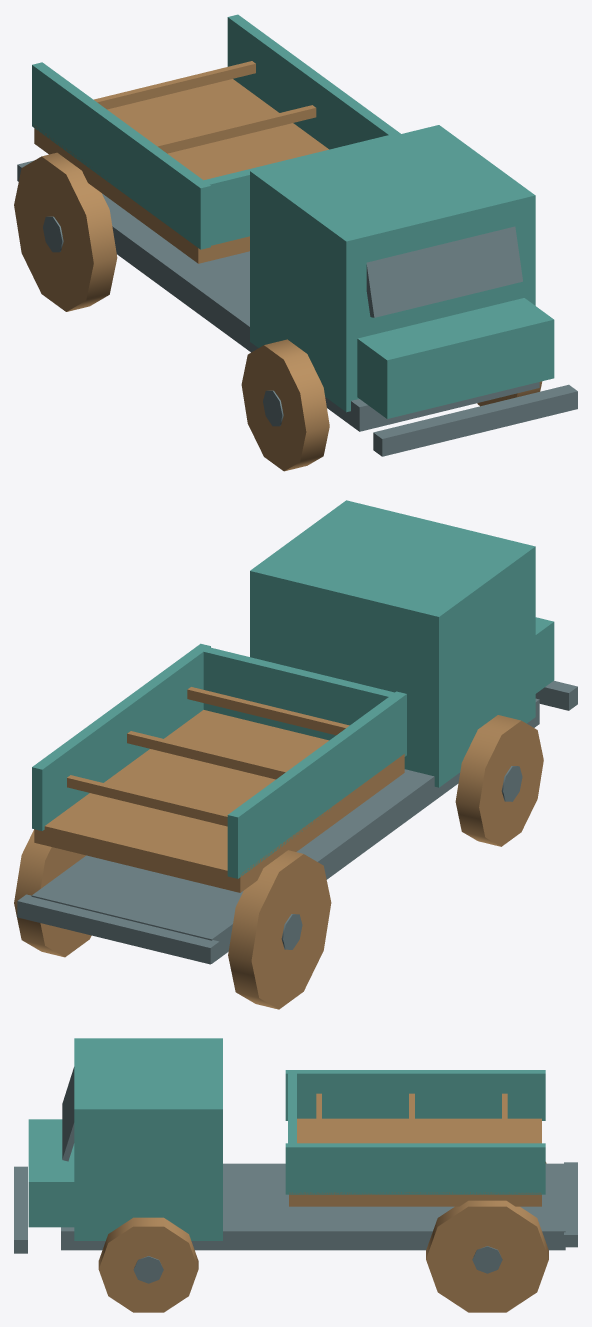
File: Farm-Truck.glb
The picture shows the model from 3 angles, top to bottom: view 1: azimuth 30°, elevation 25°; view 2: azimuth 150°, elevation 25°; view 3: azimuth 270°, elevation 25°; orthographic projection. The views are drawn at different scales.
Parts seen in each view (by area): view 1: farm-truck-static-farm-truck-paint-mat, farm-truck-static-farm-truck-wheel-mat, farm-truck-static-farm-truck-timber-mat, farm-truck-static-farm-truck-iron-mat, farm-truck-static-farm-truck-steel-mat; view 2: farm-truck-static-farm-truck-paint-mat, farm-truck-static-farm-truck-timber-mat, farm-truck-static-farm-truck-wheel-mat, farm-truck-static-farm-truck-iron-mat, farm-truck-static-farm-truck-steel-mat; view 3: farm-truck-static-farm-truck-paint-mat, farm-truck-static-farm-truck-iron-mat, farm-truck-static-farm-truck-wheel-mat, farm-truck-static-farm-truck-timber-mat, farm-truck-static-farm-truck-steel-mat.
Boxes of the visible parts, x1=… form: farm-truck-static-farm-truck-paint-mat: x1=32, y1=14, x2=554, y2=418; farm-truck-static-farm-truck-wheel-mat: x1=14, y1=152, x2=542, y2=471; farm-truck-static-farm-truck-timber-mat: x1=34, y1=61, x2=328, y2=263; farm-truck-static-farm-truck-iron-mat: x1=17, y1=160, x2=577, y2=456; farm-truck-static-farm-truck-steel-mat: x1=43, y1=216, x2=522, y2=426; farm-truck-static-farm-truck-paint-mat: x1=32, y1=500, x2=554, y2=878; farm-truck-static-farm-truck-timber-mat: x1=34, y1=687, x2=404, y2=892; farm-truck-static-farm-truck-wheel-mat: x1=14, y1=715, x2=543, y2=1009; farm-truck-static-farm-truck-iron-mat: x1=17, y1=680, x2=577, y2=964; farm-truck-static-farm-truck-steel-mat: x1=281, y1=766, x2=522, y2=949; farm-truck-static-farm-truck-paint-mat: x1=28, y1=1038, x2=545, y2=1240; farm-truck-static-farm-truck-iron-mat: x1=14, y1=1162, x2=577, y2=1253; farm-truck-static-farm-truck-wheel-mat: x1=98, y1=1162, x2=548, y2=1312; farm-truck-static-farm-truck-timber-mat: x1=289, y1=1093, x2=541, y2=1206; farm-truck-static-farm-truck-steel-mat: x1=62, y1=1067, x2=502, y2=1283.
Size of the model in its own units: 1.84 by 1.85 by 4.86.
